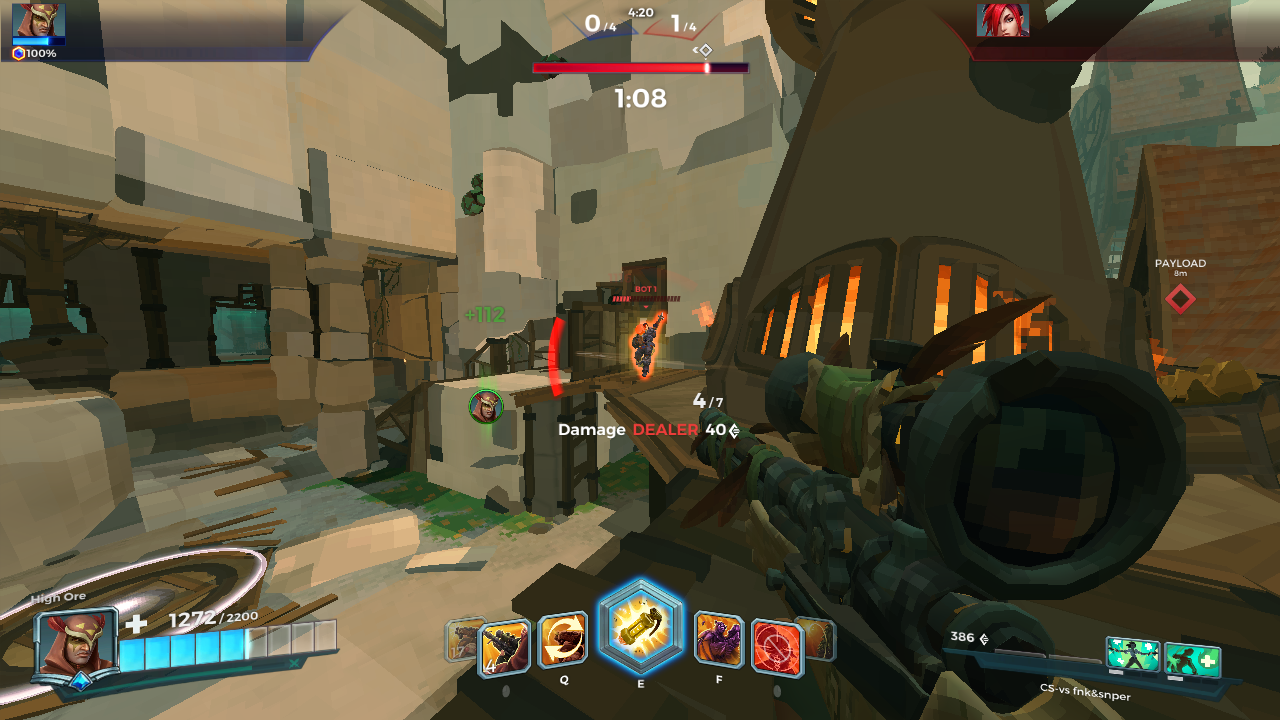model: (627, 308, 659, 375)
